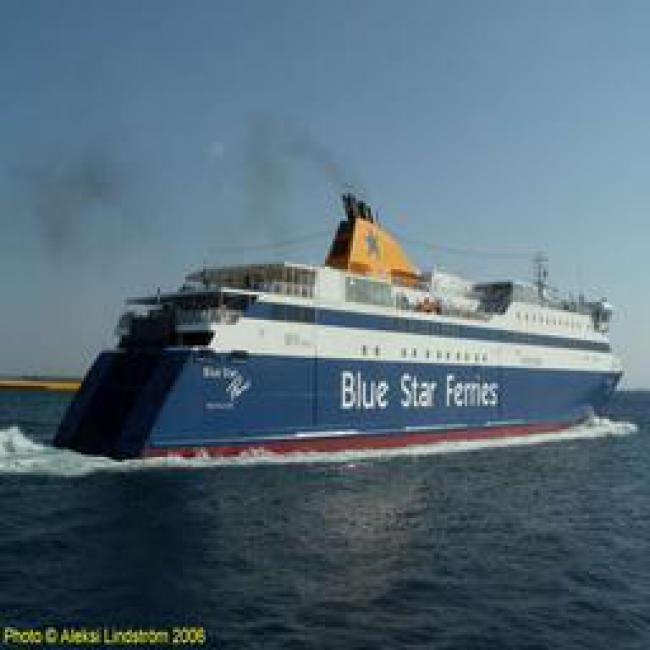Ship: (62, 239, 629, 452)
